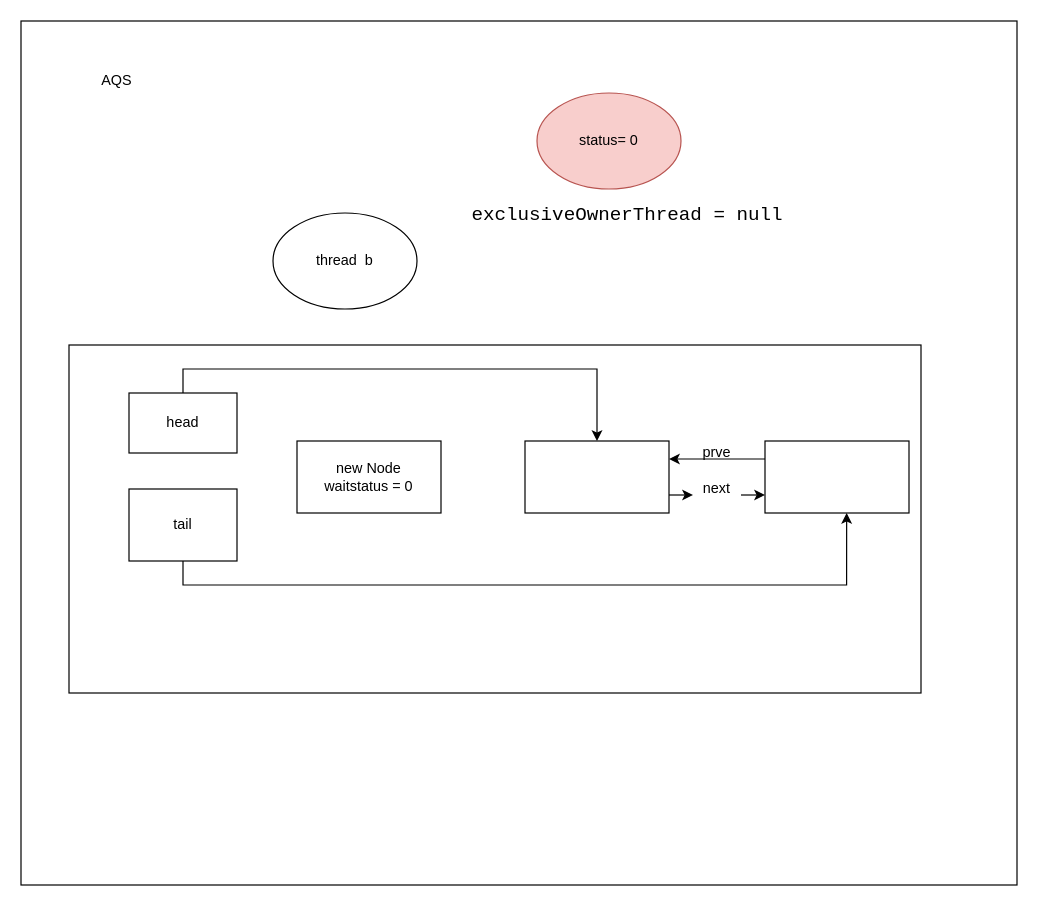
Image size: 1038x906. Some labels were removed from this diagram. Each missing label, with the centre of its shape:
"thread c" goes at (x=836, y=476).
"waitstatus = -1" goes at (x=596, y=476).
